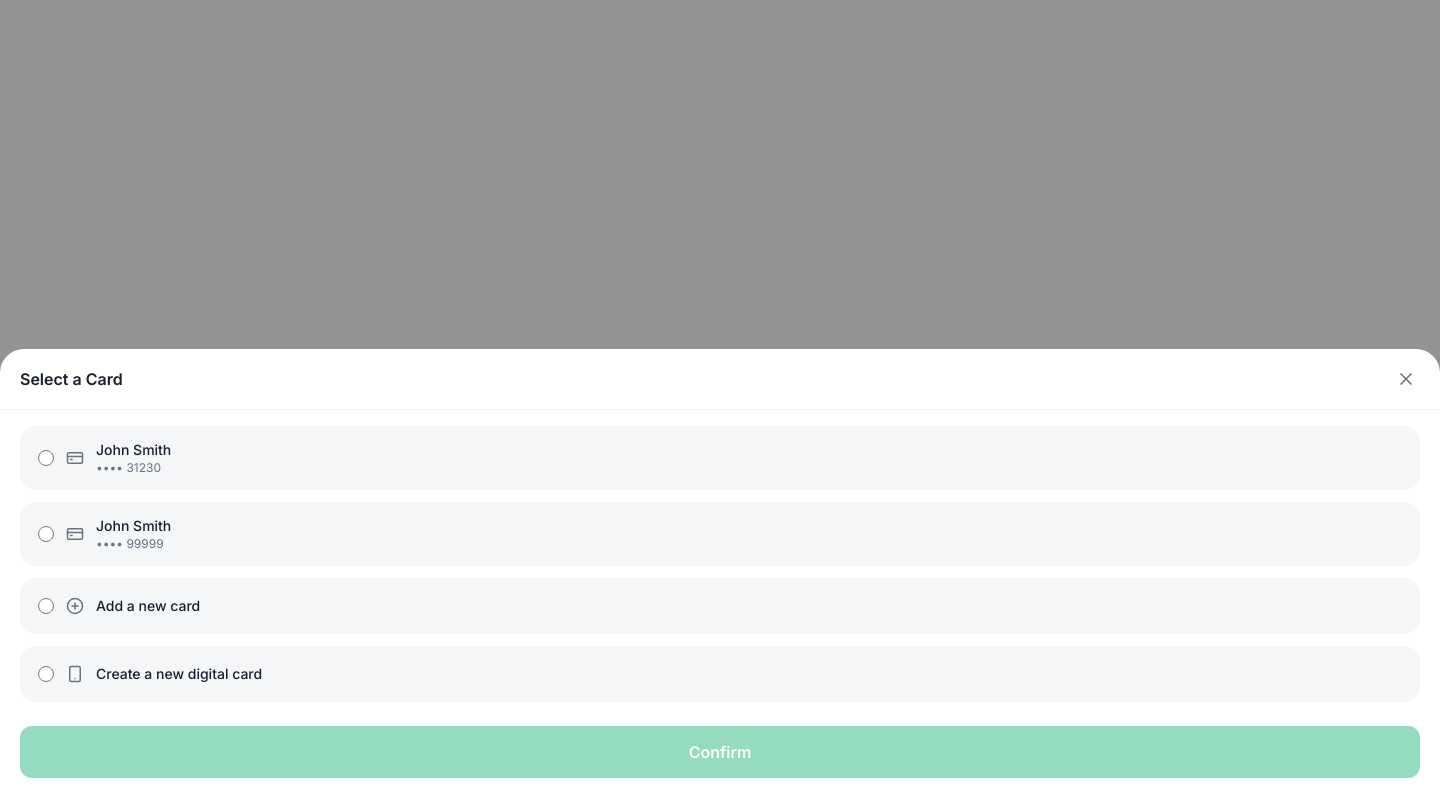
Test case: CardAssignModal › selecting "Create a new digital card" enables Confirm
The image size is (1440, 810).
Click the radio button labelled "Create a new digital card". click: x=46, y=674
box: [38, 666, 54, 682]
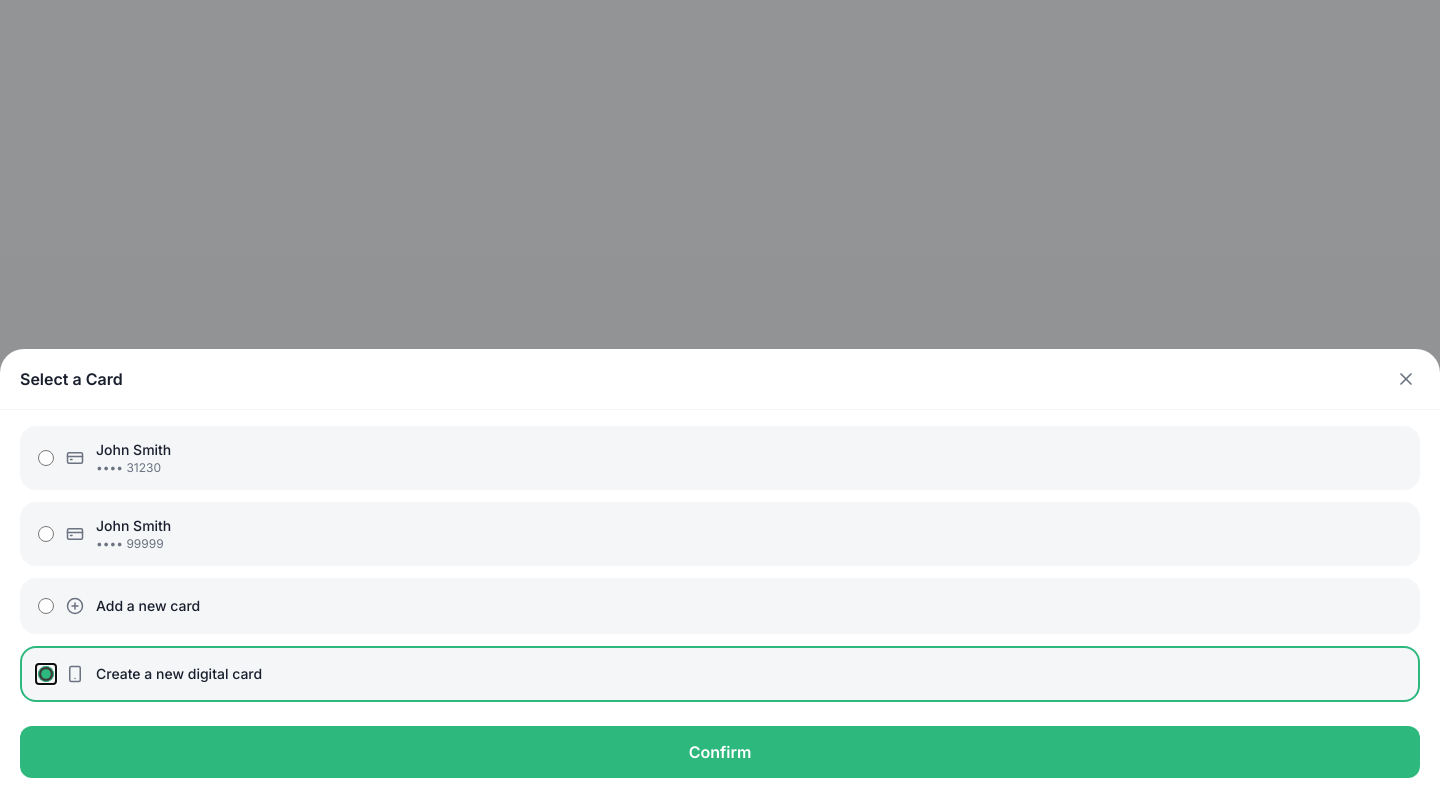
Expected: the button "Confirm" is enabled, [20, 726, 1420, 778]
